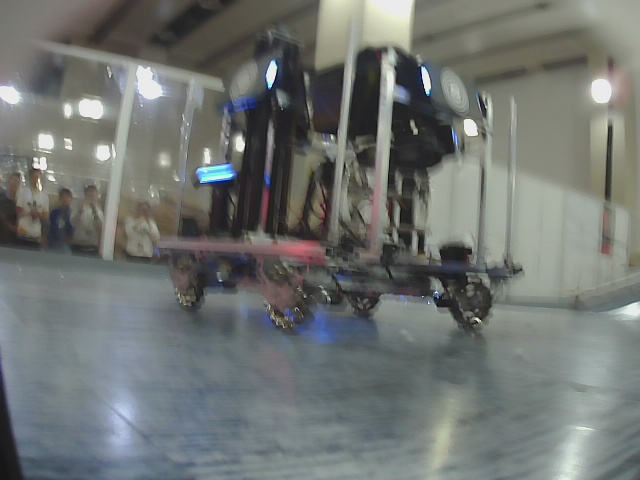lamp: (418, 64, 433, 94), (262, 61, 279, 87)
